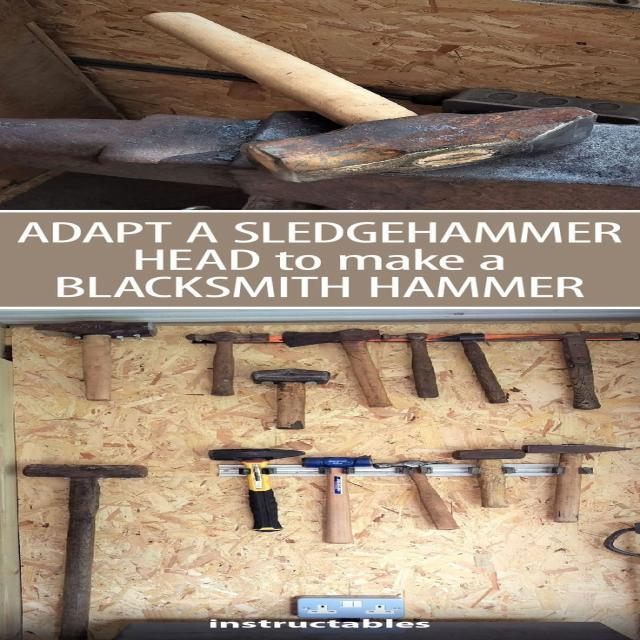hammer: (130, 3, 616, 188), (0, 455, 159, 640), (19, 316, 162, 414), (516, 438, 634, 534), (190, 442, 310, 536), (288, 452, 382, 551), (363, 458, 474, 539), (174, 326, 294, 398), (428, 444, 536, 516), (234, 364, 342, 434)
